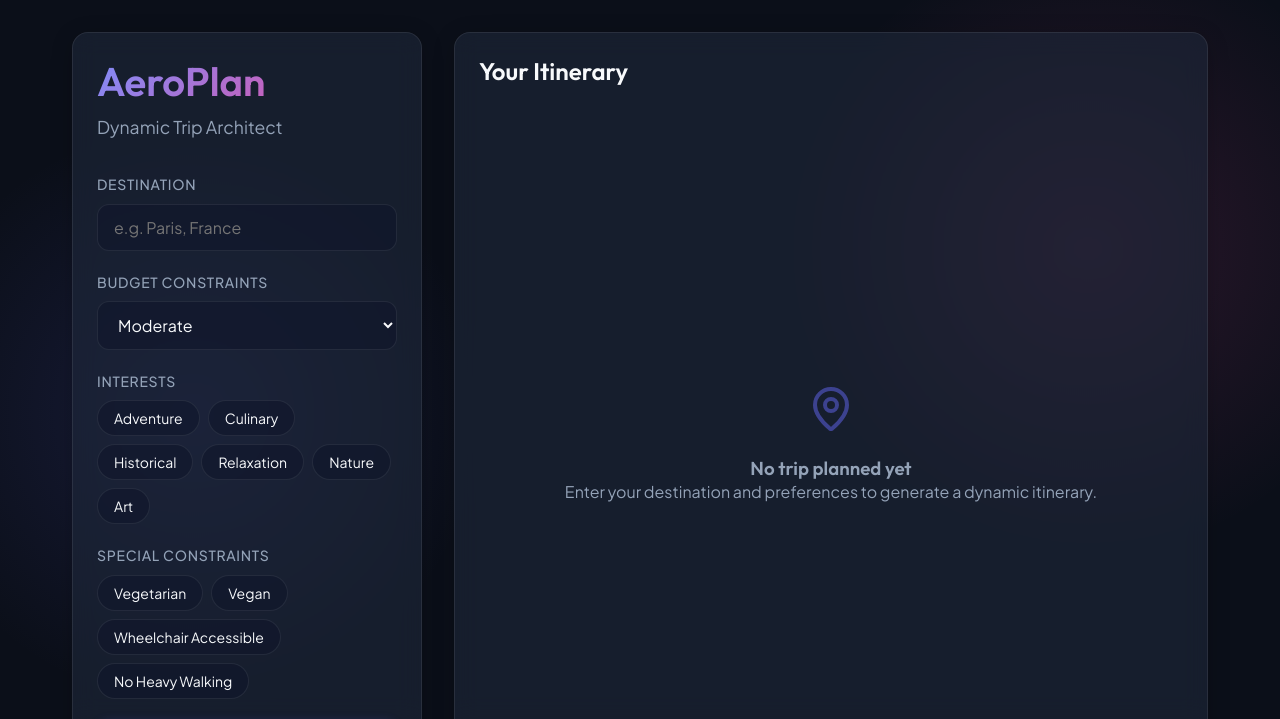
Scenario: AeroPlan Trip Planner › generates an itinerary when valid input is provided
Type "Paris" into the field labelled "Destination" at (247, 227), box [97, 204, 397, 250]
(page scrolled)
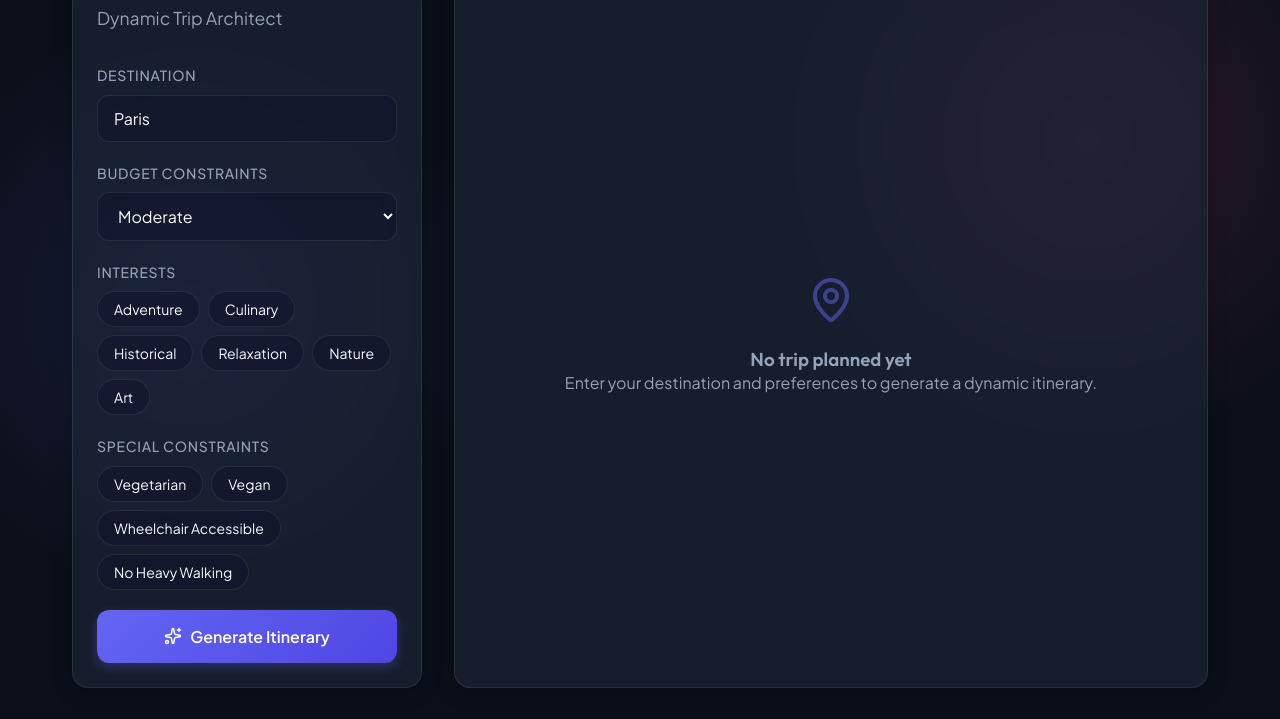
Click the button "Generate Itinerary" at (247, 636), box [97, 610, 397, 663]
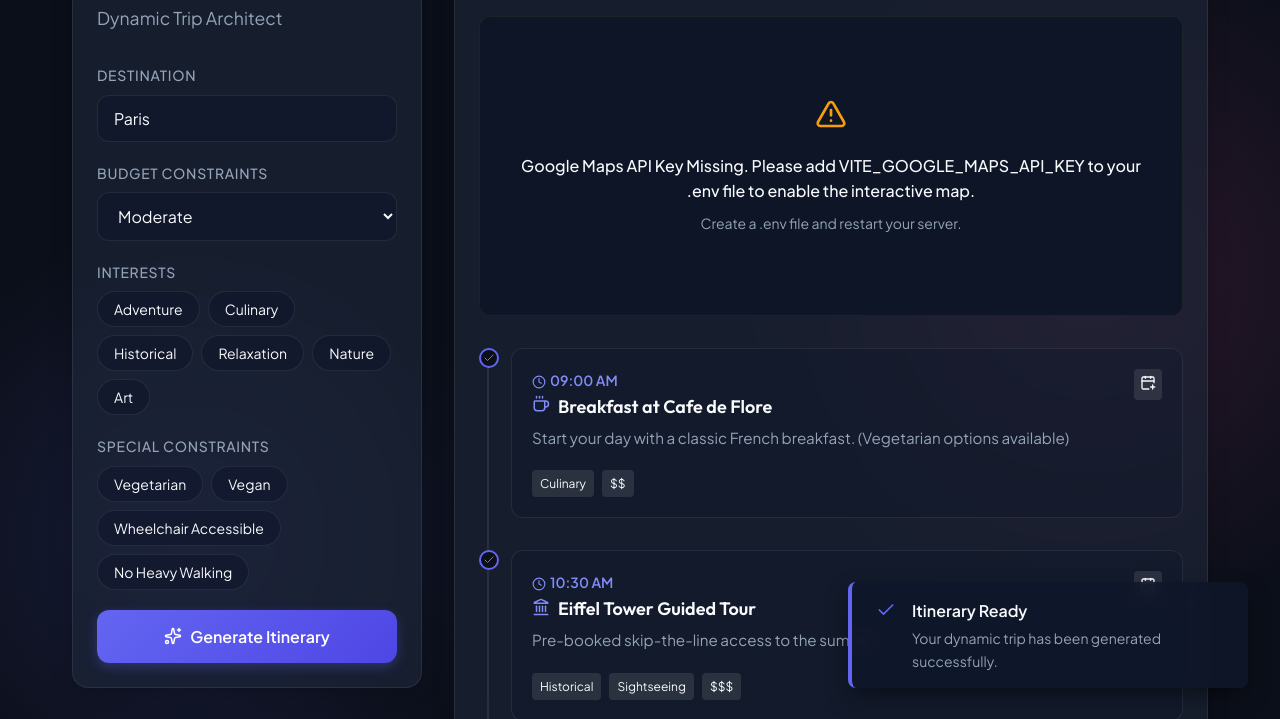
Now the heading "Breakfast at Cafe de Flore" is shown, box [532, 395, 772, 418]
Now the heading "No trip planned yet" is gone
